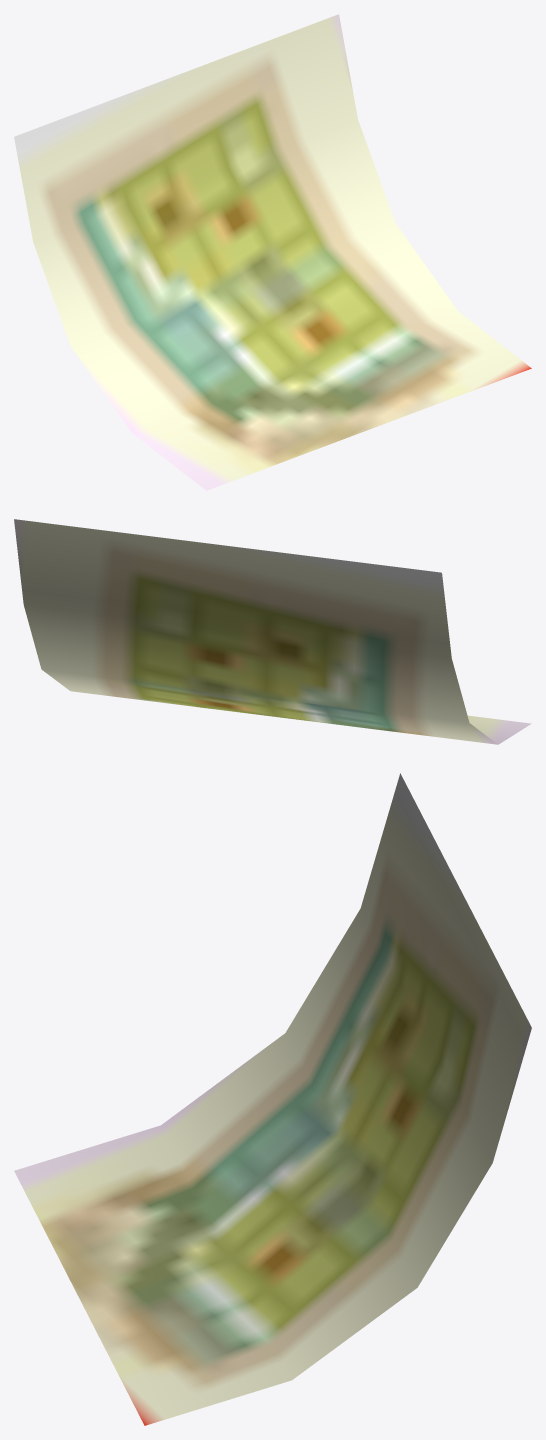
The model's file is fg_map_out.dae.
3 renders of one model, top to bottom at view 1: azimuth 30°, elevation 25°; view 2: azimuth 150°, elevation 25°; view 3: azimuth 270°, elevation 25°, orthographic. The views are drawn at different scales.
Parts seen in each view (by area): view 1: fg_map_out; view 2: fg_map_out; view 3: fg_map_out.
Part boxes in pixels (x1,y1,x2,y2): fg_map_out: [14, 14, 531, 490]; fg_map_out: [14, 519, 531, 744]; fg_map_out: [14, 773, 531, 1425].
Size of the model in its own units: 17.25 by 10.37 by 13.24.
1 material, 1 textured.
